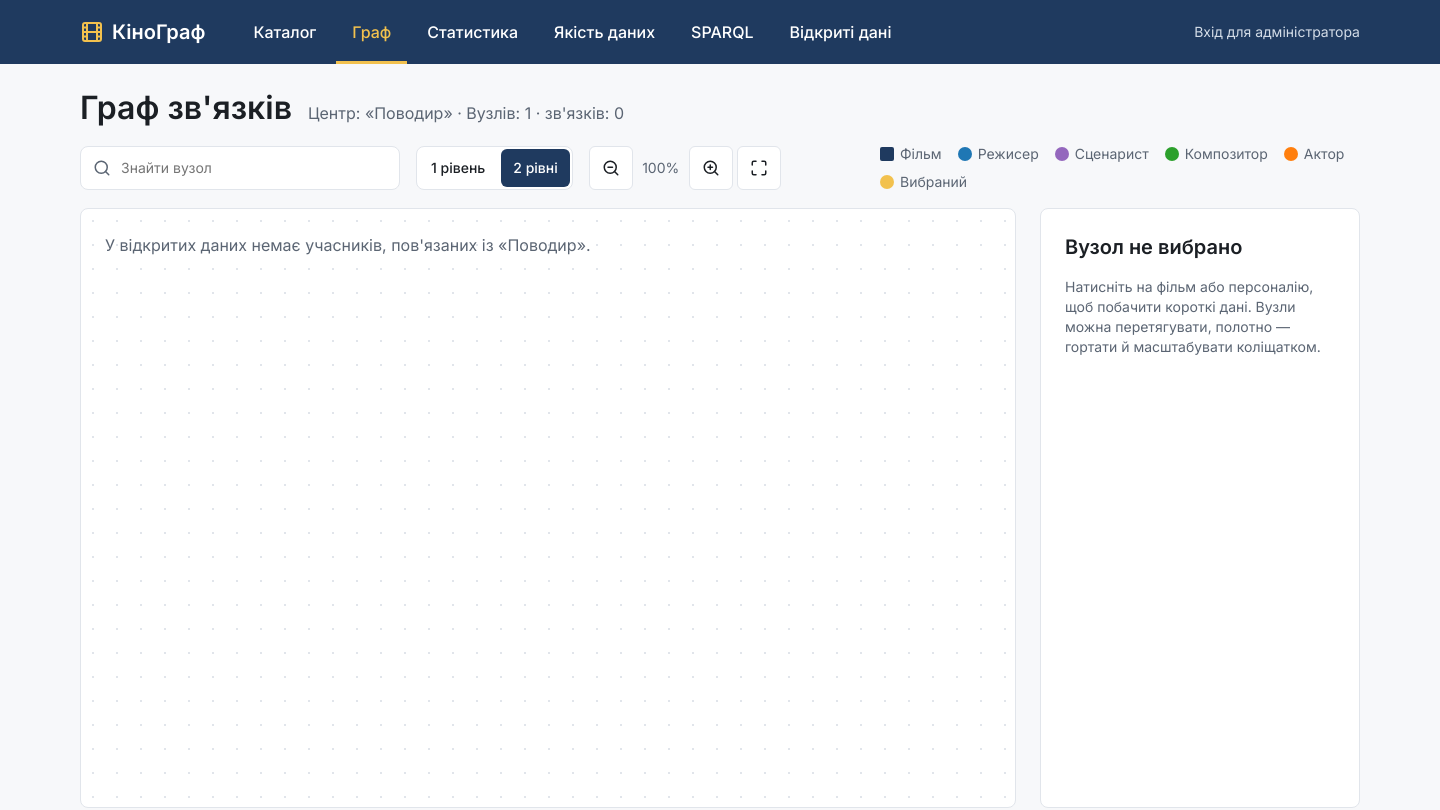
Test: граф зв'язків › запитує дані вибраного вузла один раз
In the field labelled "Знайти вузол": {"x": 253, "y": 168} 119,157 -> 387,179, type "пов"
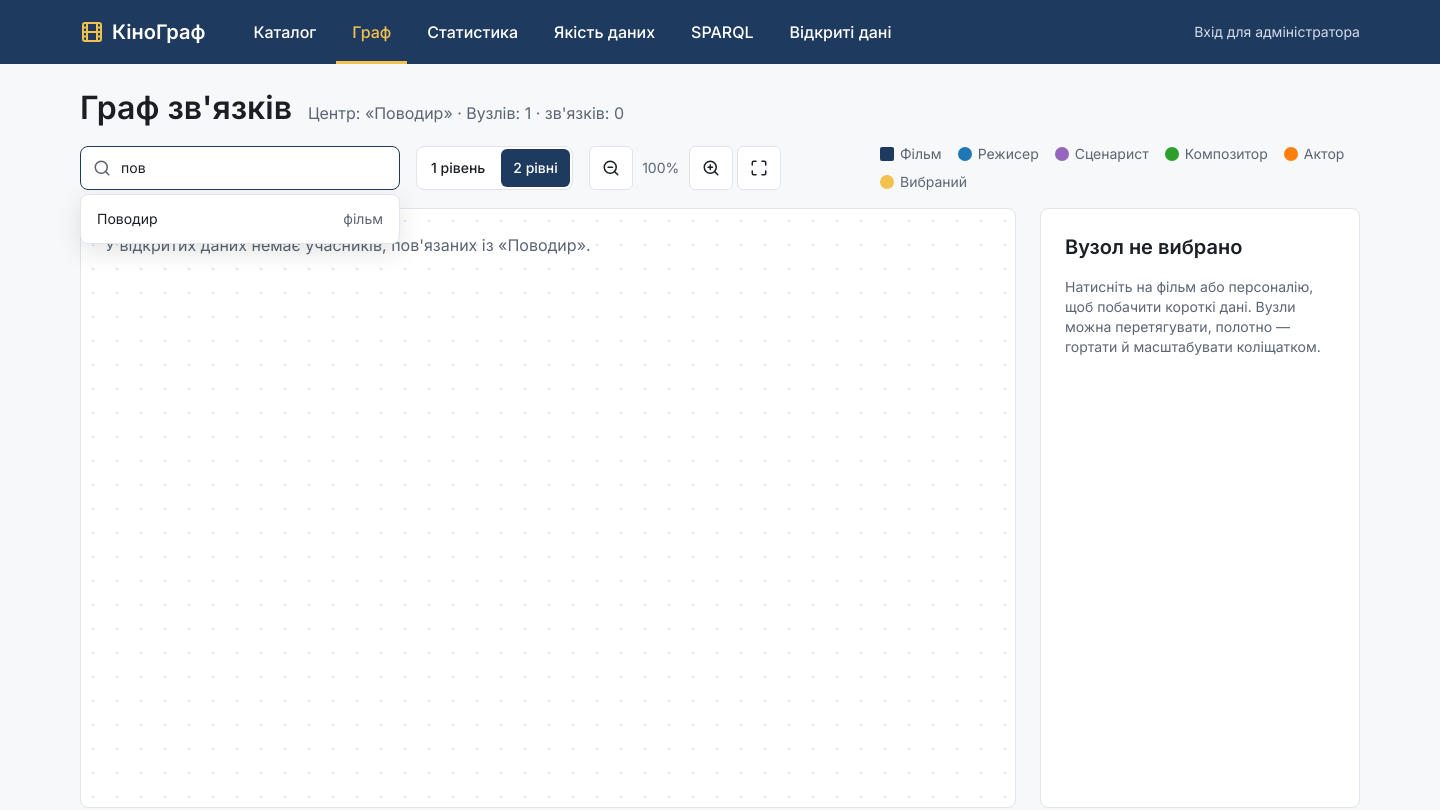
Click the option "Поводир фільм": {"x": 127, "y": 218} 97,210 -> 383,227
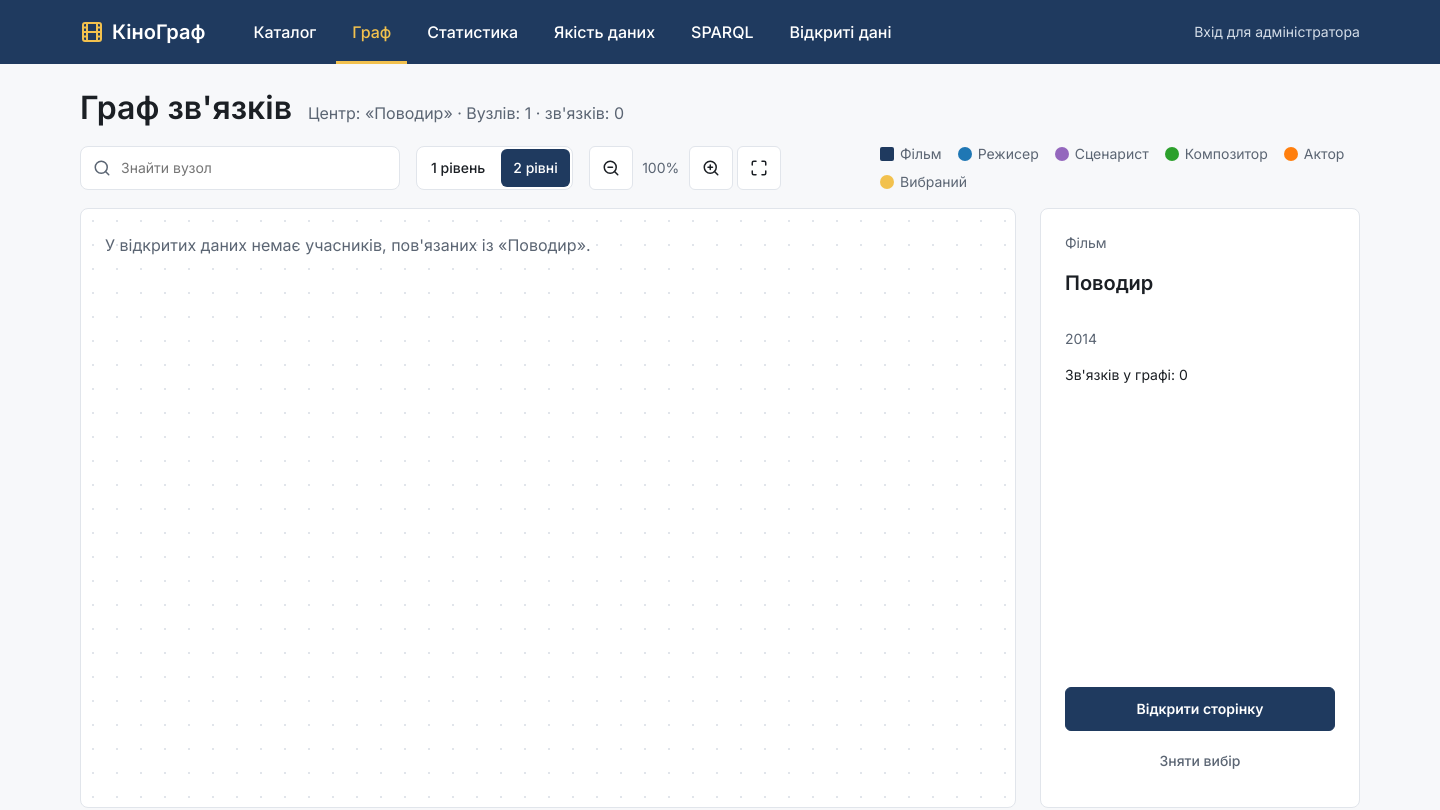
Expected: the text "Зв'язків у графі: 0" is shown, 1065,366 -> 1188,383
